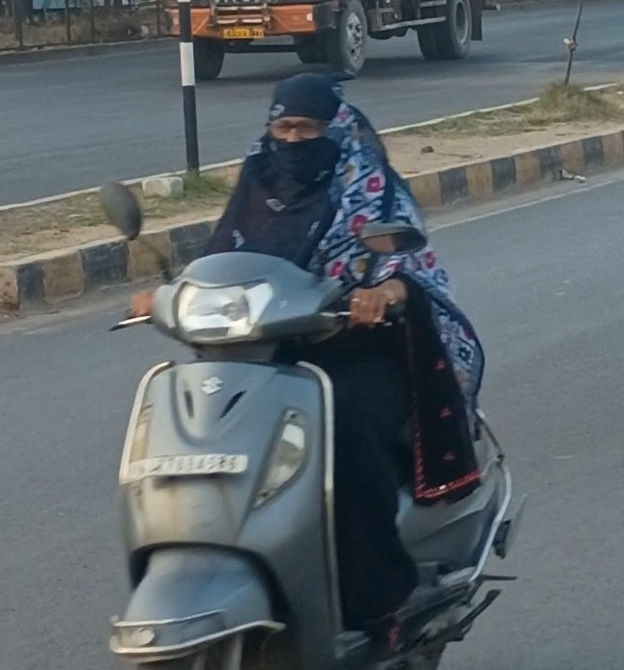BikeWithRider: (79, 64, 539, 669)
NoHelmet: (249, 67, 356, 184)
